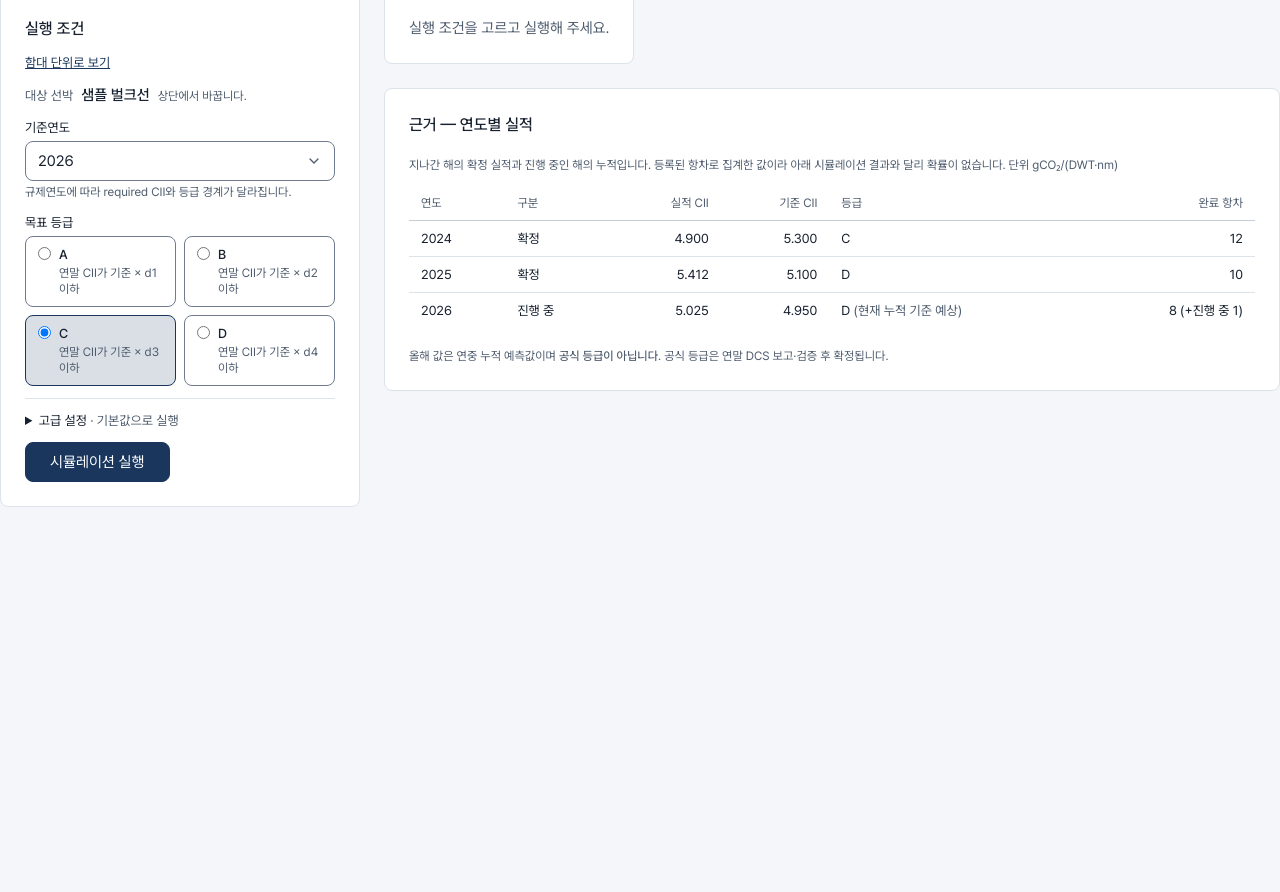
Test: ⑴ 두 블록 — 올해 시뮬레이션 결과가 위, 근거(연도별 실적)가 아래 › 실적 블록이 결과 뒤에 오고, 지나간 해와 올해 누적이 표에 있다 — 계산 근거는 그 블록 맨 아래다
The image size is (1280, 892).
Click the button "시뮬레이션 실행" at [97, 462], box 25,442 -> 170,482
(page scrolled)
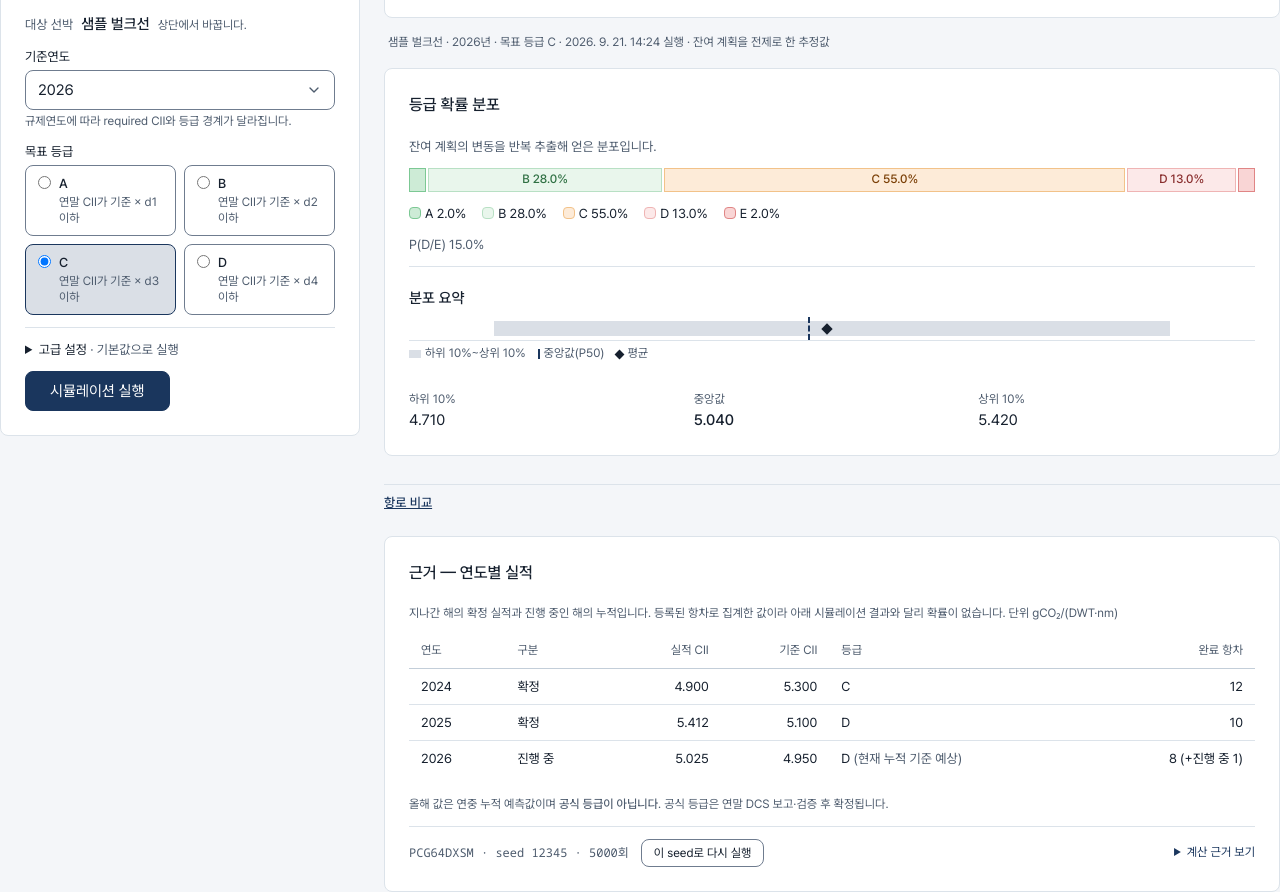
Expected: the cell does not show "확정"
Expected: the button "이 seed로 다시 실행" is shown, 641,839 -> 764,867
